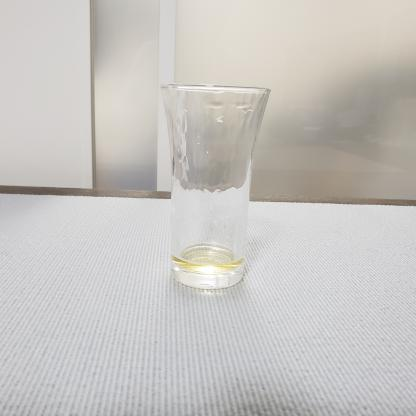glass: (150, 71, 276, 305)
